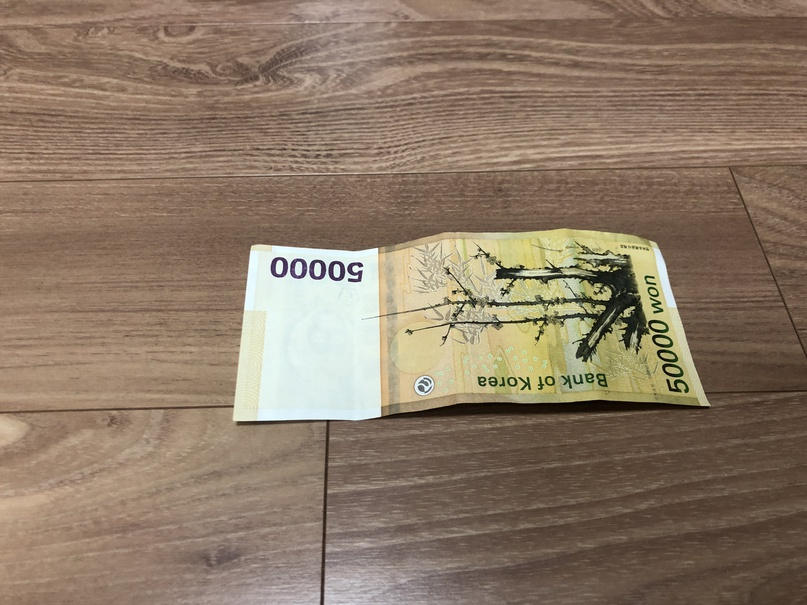50000won: (232, 229, 710, 422)
